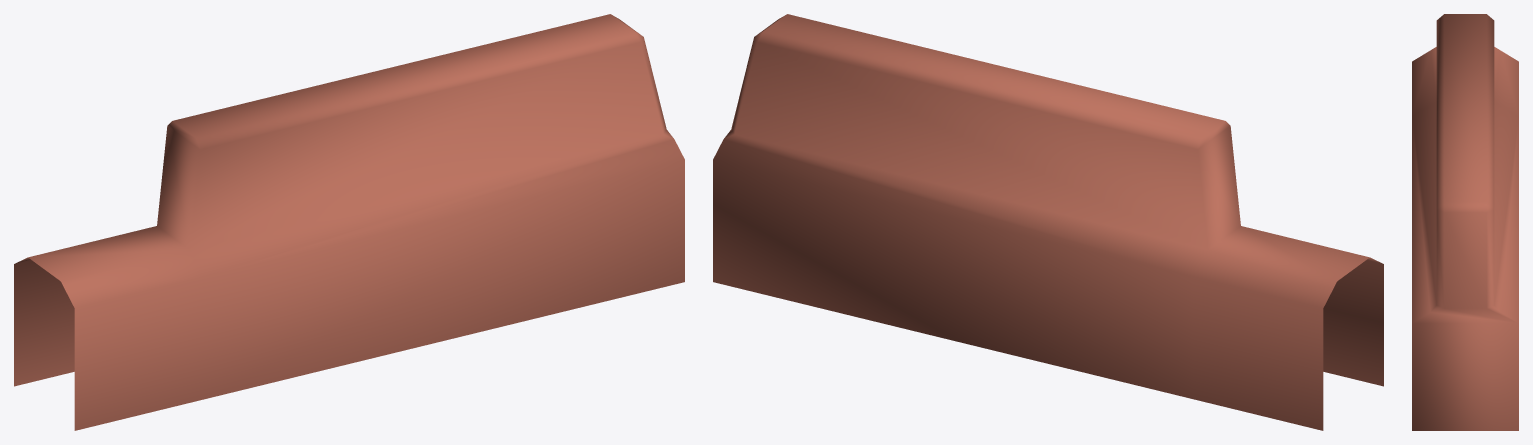
The model's file is SM_barricade_02.fbx.
3 renders of one model, left to right at view 1: azimuth 30°, elevation 25°; view 2: azimuth 150°, elevation 25°; view 3: azimuth 270°, elevation 25°, orthographic. The views are drawn at different scales.
Parts seen in each view (by area): view 1: barricade_05; view 2: barricade_05; view 3: barricade_05.
Boxes of the visible parts, x1,y1,x2,y2 form: barricade_05: (14, 14, 684, 430); barricade_05: (713, 14, 1383, 430); barricade_05: (1412, 14, 1518, 430).
Size of the model in its own units: 451 by 173 by 77.68.
